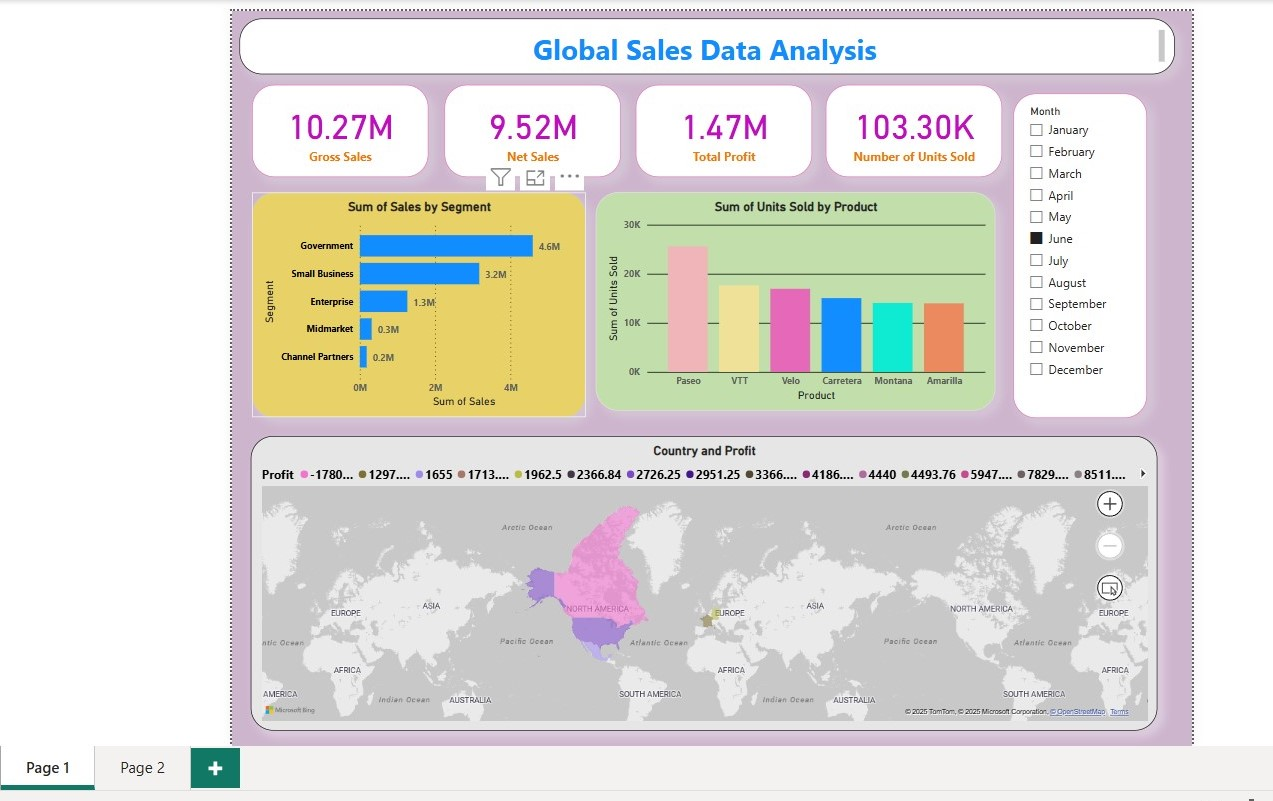

The page's visual inventory and layout, read from the dashboard file:
{"tool":"powerbi","page":{"name":"Page 1","canvas":[1280,980],"ordinal":0},"visuals":[{"type":"textbox","box":[10,10,1247.1,74.3],"z":0},{"type":"card","fields":{"Values":["Sum(financials.Gross Sales)"]},"box":[26.5,97.7,235.2,123],"z":1000},{"type":"card","fields":{"Values":["Sum(financials.Profit)"]},"box":[537.9,97.7,235.2,123],"z":2000},{"type":"card","fields":{"Values":["Sum(financials. Sales)"]},"box":[283.4,97.7,235.2,123],"z":3000},{"type":"card","fields":{"Values":["Sum(financials.Units Sold)"]},"box":[792.4,97.7,235.2,123],"z":4000},{"type":"clusteredBarChart","fields":{"Category":["financials.Segment"],"Y":["Sum(financials. Sales)"]},"box":[26.3,241.3,444.9,300.4],"z":5000},{"type":"slicer","fields":{"Values":["financials.Date.Variation.Date Hierarchy.Month"]},"box":[1041.6,109.8,178,432.6],"z":6000},{"type":"clusteredColumnChart","fields":{"Y":["Sum(financials.Units Sold)"],"Category":["financials.Product"]},"box":[485.7,241.4,532.9,291.4],"z":7000},{"type":"filledMap","fields":{"Category":["financials.Country"],"Series":["financials.Profit"]},"box":[25.7,567.1,1208.6,392.9],"z":8000}]}

Visuals, with their boxes on the page's 1280x980 design canvas (x1, y1, x2, y2). These are canvas units, not pixel positions in the 1273x801 screenshot, which may show the page scaled, cropped or inside an application window:
textbox: l=10, t=10, r=1257, b=84
card - Sum(financials.Gross Sales): l=26, t=98, r=262, b=221
card - Sum(financials.Profit): l=538, t=98, r=773, b=221
card - Sum(financials. Sales): l=283, t=98, r=519, b=221
card - Sum(financials.Units Sold): l=792, t=98, r=1028, b=221
clusteredBarChart - financials.Segment x Sum(financials. Sales): l=26, t=241, r=471, b=542
slicer - financials.Date.Variation.Date Hierarchy.Month: l=1042, t=110, r=1220, b=542
clusteredColumnChart - Sum(financials.Units Sold) x financials.Product: l=486, t=241, r=1019, b=533
filledMap - financials.Country x financials.Profit: l=26, t=567, r=1234, b=960
